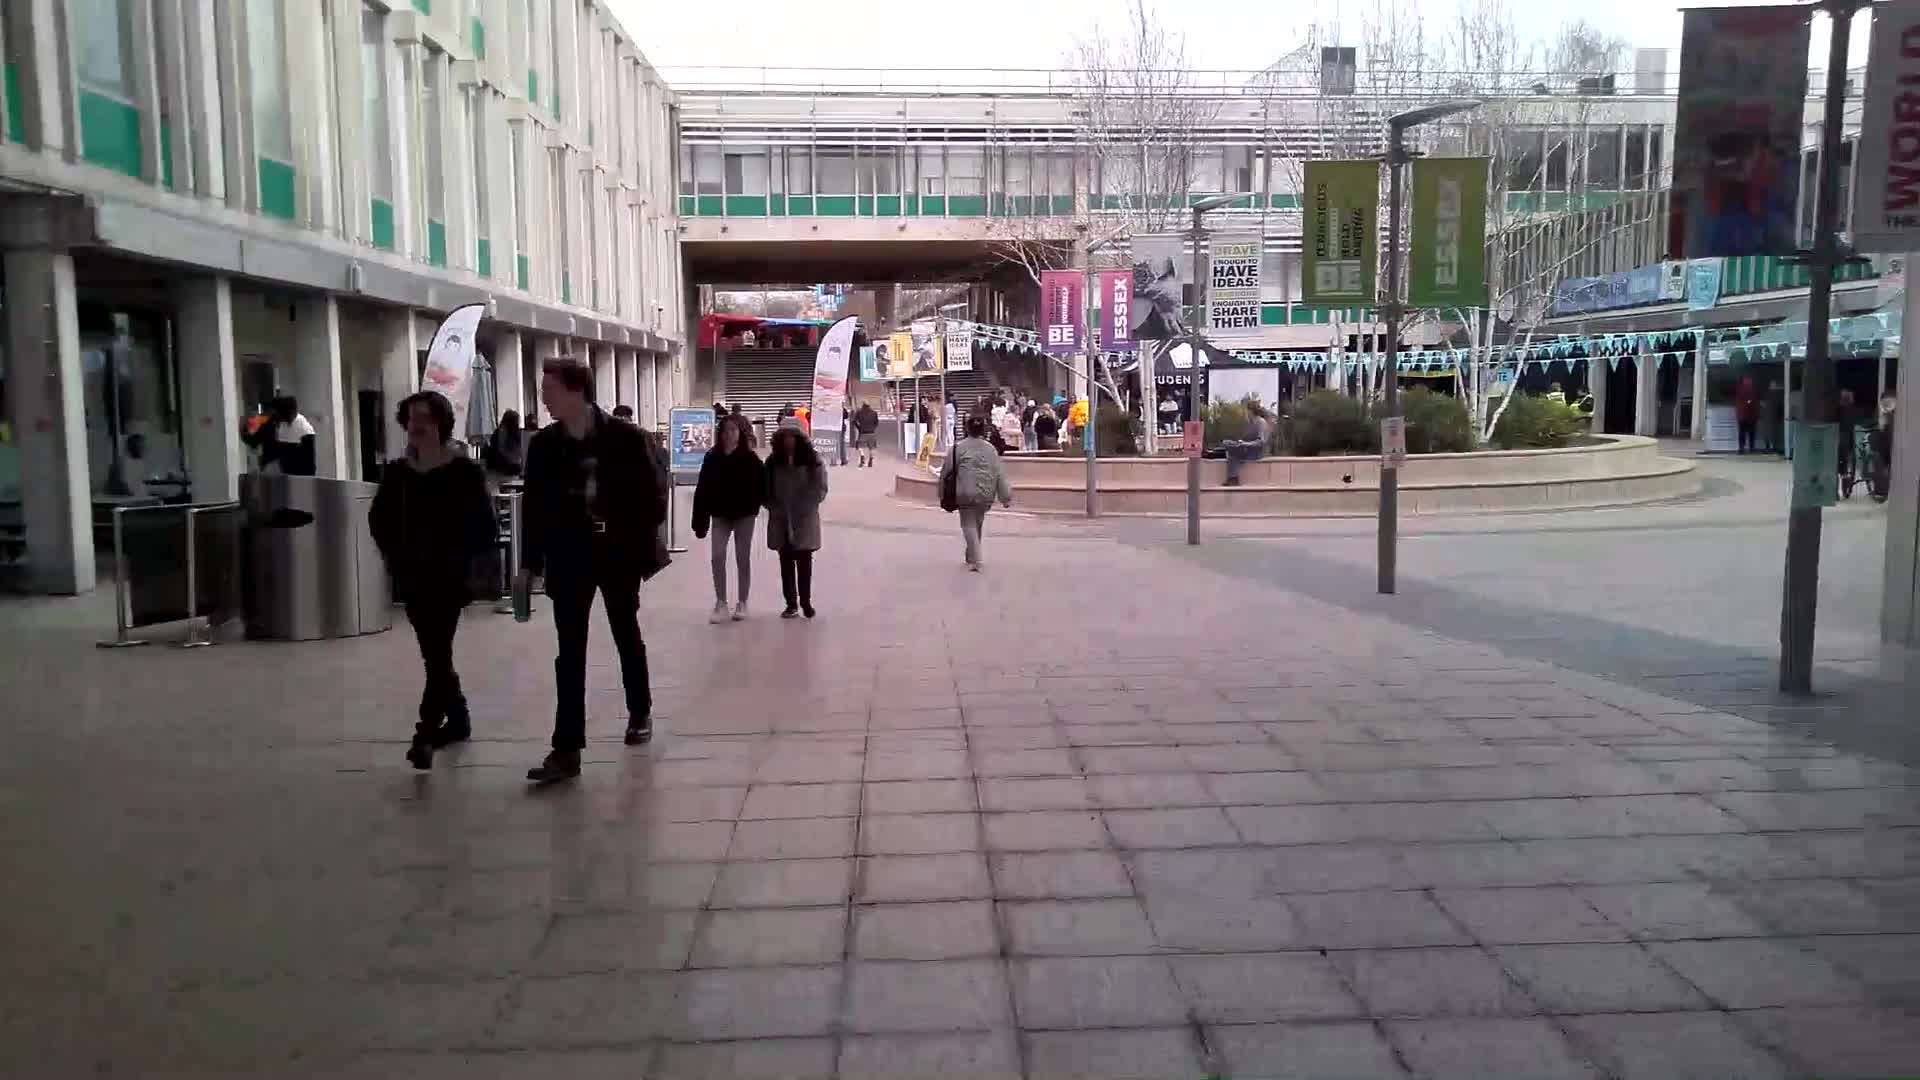Bin: (238, 465, 385, 651)
Person: (525, 359, 672, 771), (385, 393, 489, 769), (693, 414, 761, 618), (770, 415, 830, 634), (945, 417, 1006, 570), (1217, 398, 1285, 497), (258, 395, 322, 482)
